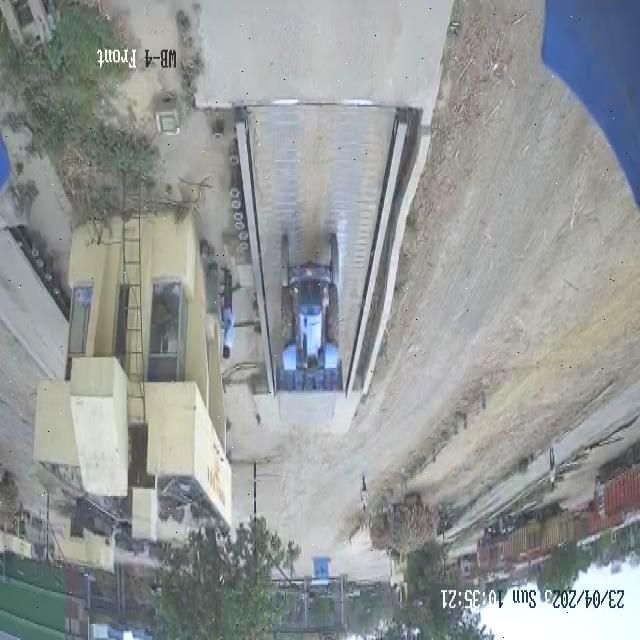Tratores - v5 YOLO V8L 2024-11-13: (274, 228, 345, 374)
